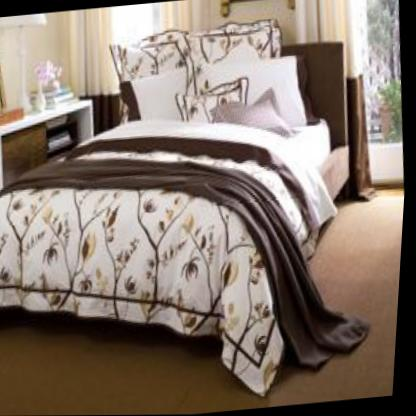Bed: (0, 19, 352, 398)
